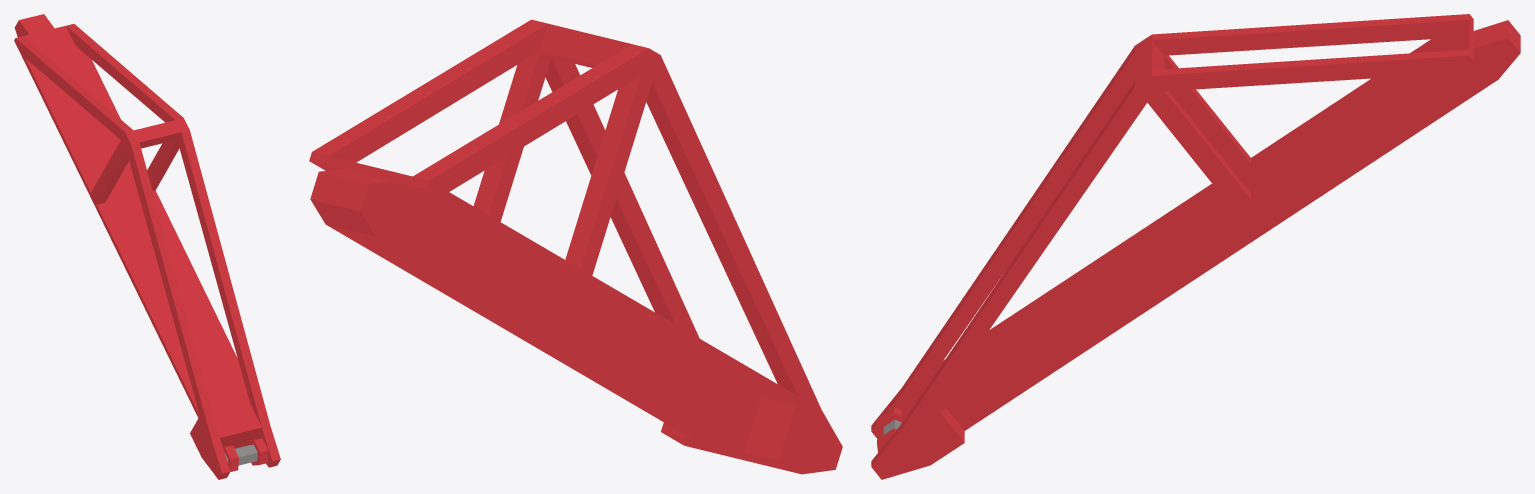
The model's file is crane-docks-arm-tip.glb.
3 views of the same model, side by side, from view 1: azimuth 30°, elevation 25°; view 2: azimuth 150°, elevation 25°; view 3: azimuth 270°, elevation 25° (orthographic). The views are drawn at different scales.
Parts seen in each view (by area): view 1: crane-docks-arm-tip; view 2: crane-docks-arm-tip; view 3: crane-docks-arm-tip.
Part boxes in pixels (box(x1,y1,x2,y2)): crane-docks-arm-tip: box(14, 14, 280, 479); crane-docks-arm-tip: box(309, 19, 842, 474); crane-docks-arm-tip: box(871, 14, 1520, 479).
Size of the model in its own units: 1.4 by 6.77 by 9.25.
Materials: 1 (1 with a texture image).
